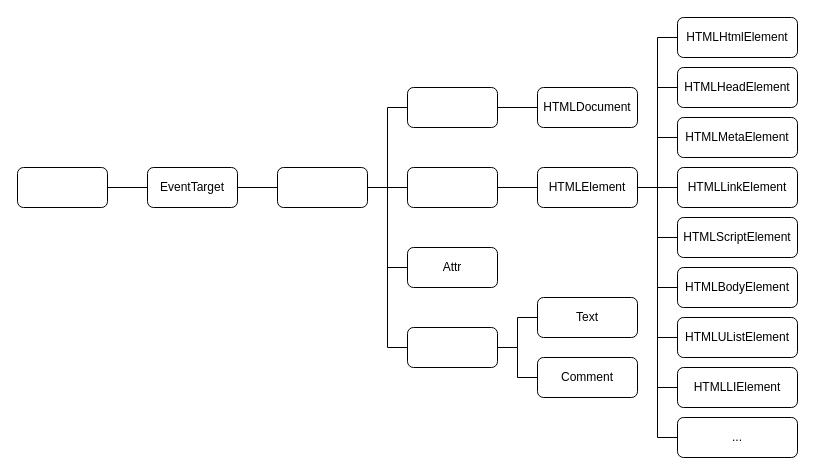
This 815x475 diagram has some shape labels left out. The centre of each missing label's shape, as x and y in pixels:
"CharacterData" belongs at (452,347).
"Document" belongs at (452,107).
"Element" belongs at (452,187).
"Node" belongs at (322,187).
"Object" belongs at (62,187).
